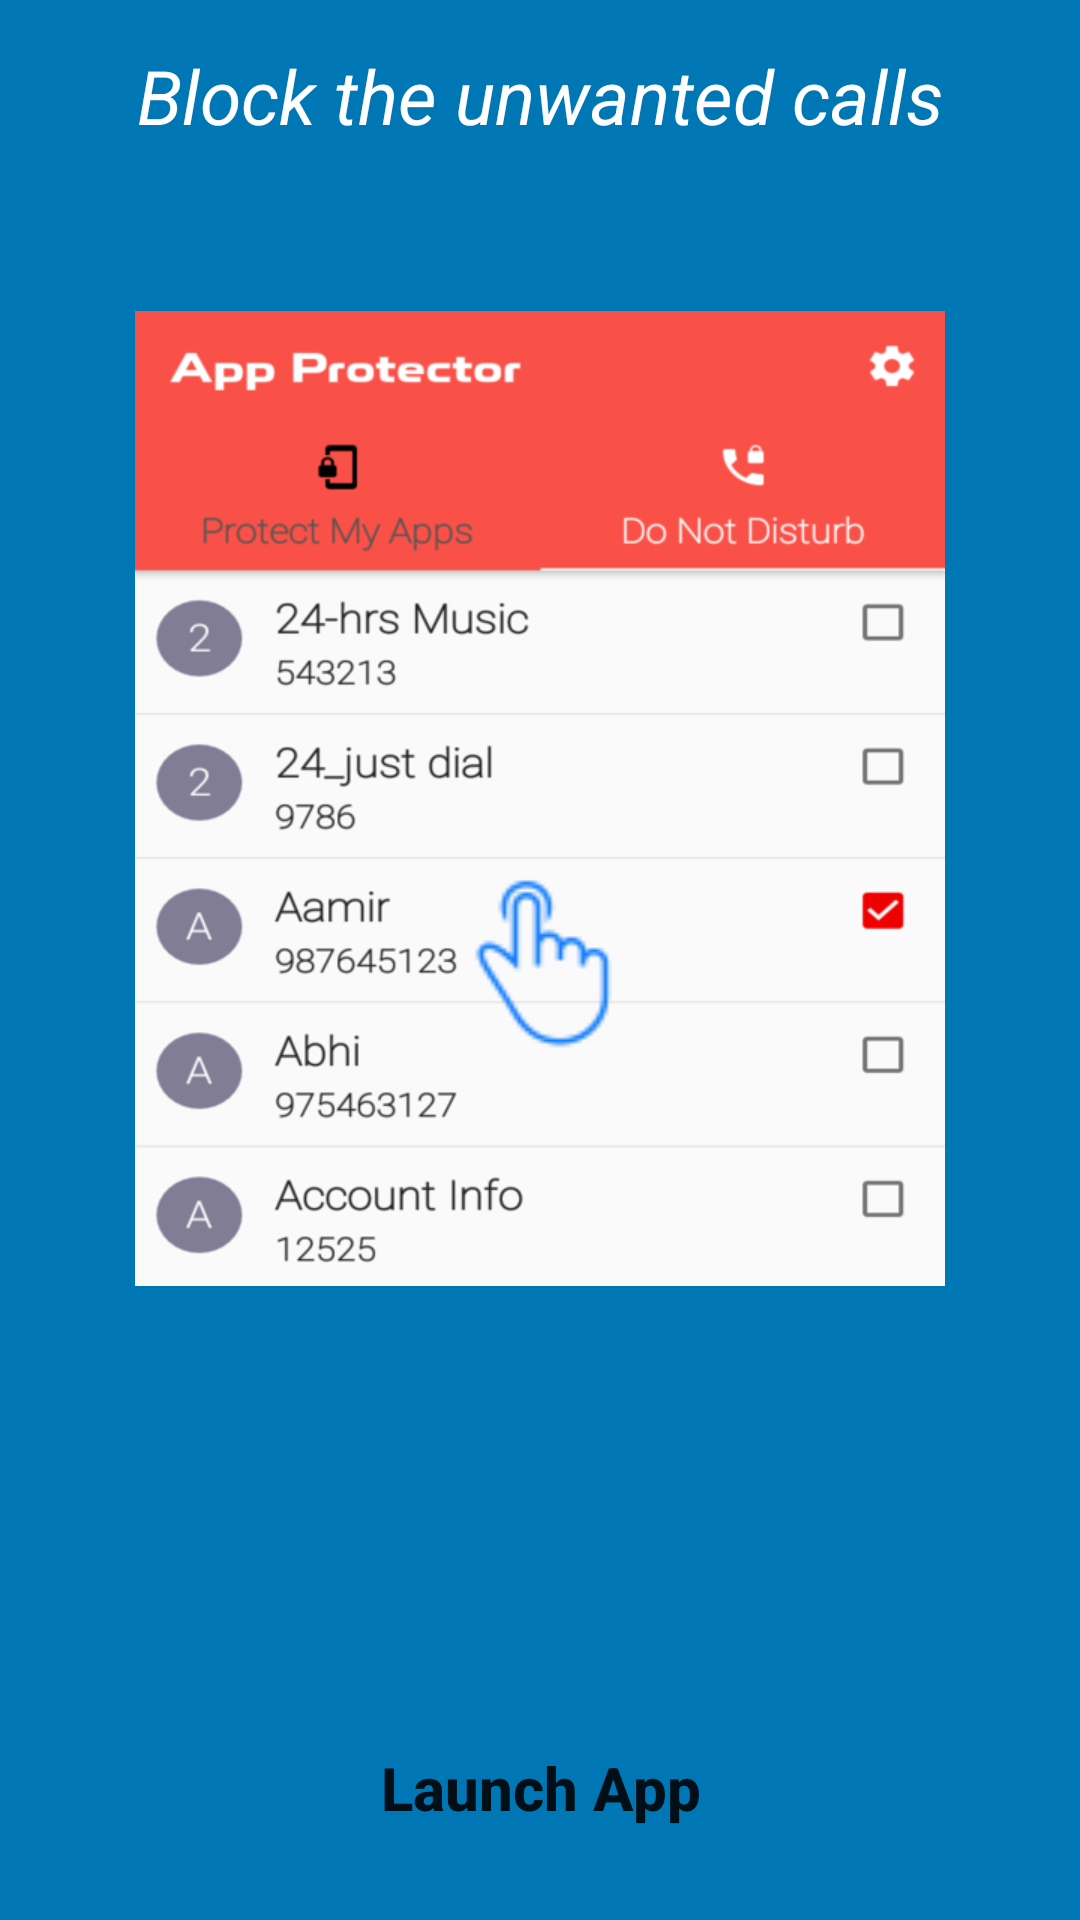

Named icons in this screenshot (1080 × 1920) and their centers, [x,y]:
figer: [543,963]
